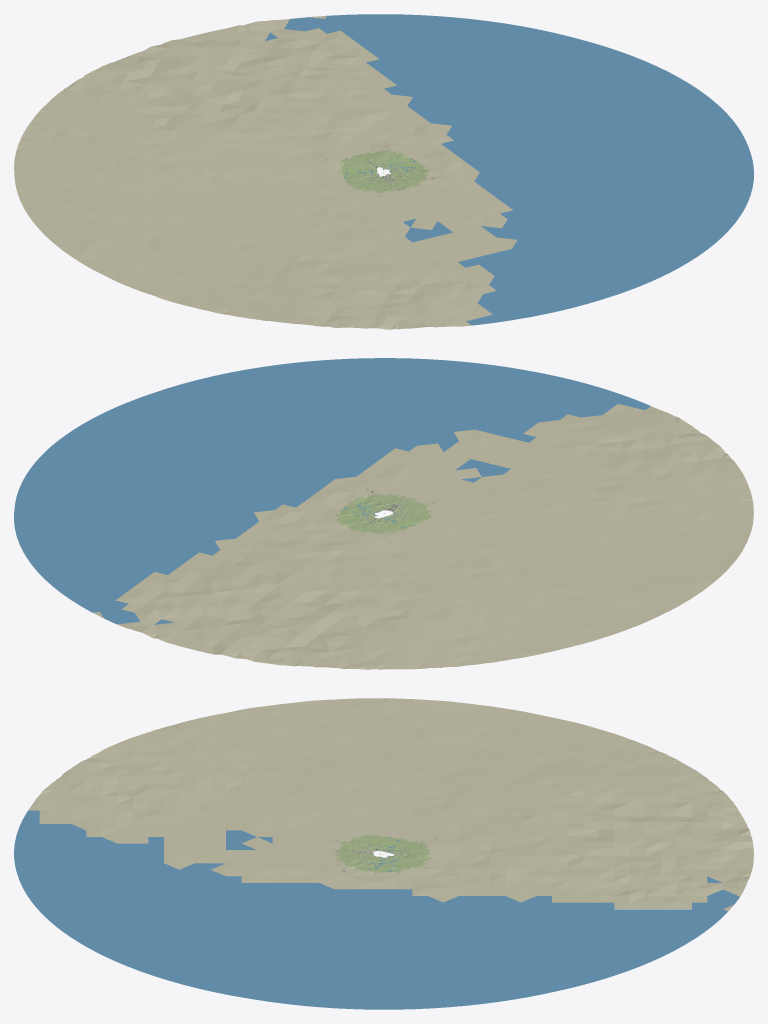
Rendered from backdrop.glb.
3 views of the same model, one above another, from view 1: azimuth 30°, elevation 25°; view 2: azimuth 150°, elevation 25°; view 3: azimuth 270°, elevation 25° (orthographic).
Visible parts, largest first — view 1: backdrop_horizon_land, backdrop_horizon_water, backdrop_terrain_grass; view 2: backdrop_horizon_land, backdrop_horizon_water, backdrop_terrain_grass; view 3: backdrop_horizon_land, backdrop_horizon_water, backdrop_terrain_grass.
Part boxes in pixels (x1,y1,x2,y2): backdrop_horizon_land: (14, 16, 517, 329); backdrop_horizon_water: (265, 14, 753, 325); backdrop_terrain_grass: (339, 150, 428, 192); backdrop_horizon_land: (93, 404, 753, 669); backdrop_horizon_water: (14, 358, 650, 624); backdrop_terrain_grass: (336, 494, 431, 533); backdrop_horizon_land: (28, 698, 753, 911); backdrop_horizon_water: (14, 810, 739, 1009); backdrop_terrain_grass: (335, 835, 430, 873).
Size of the model in its own units: 70989 by 313 by 71488.
